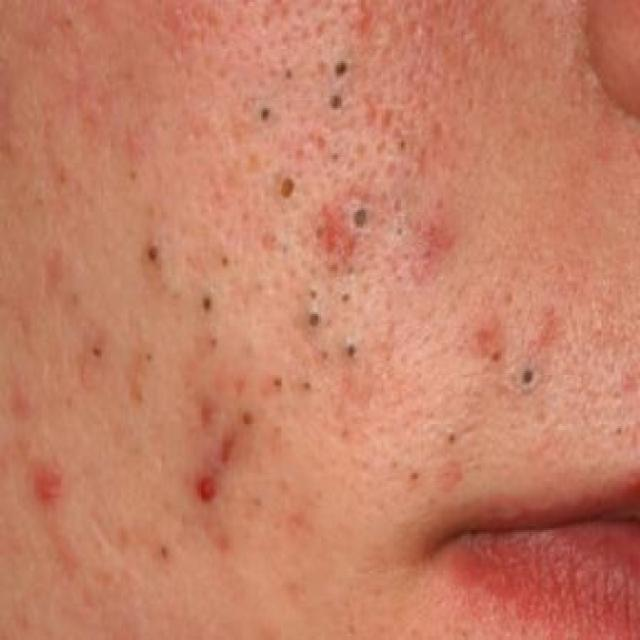blackheads: (504, 334, 556, 400), (380, 106, 429, 171), (136, 224, 178, 290), (469, 326, 517, 377), (329, 190, 380, 238), (264, 165, 308, 218), (312, 132, 356, 184), (435, 399, 474, 456), (317, 40, 365, 86), (240, 80, 277, 136), (143, 522, 182, 575), (328, 330, 368, 381), (288, 310, 332, 352), (188, 283, 230, 326), (200, 316, 240, 361), (256, 356, 290, 406), (206, 235, 245, 278), (77, 328, 114, 373), (310, 88, 362, 118), (290, 362, 324, 406), (396, 459, 430, 497), (331, 283, 369, 316), (137, 340, 169, 377), (240, 398, 263, 434), (297, 281, 325, 310)
